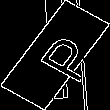P_NW: (18, 26, 92, 84)
